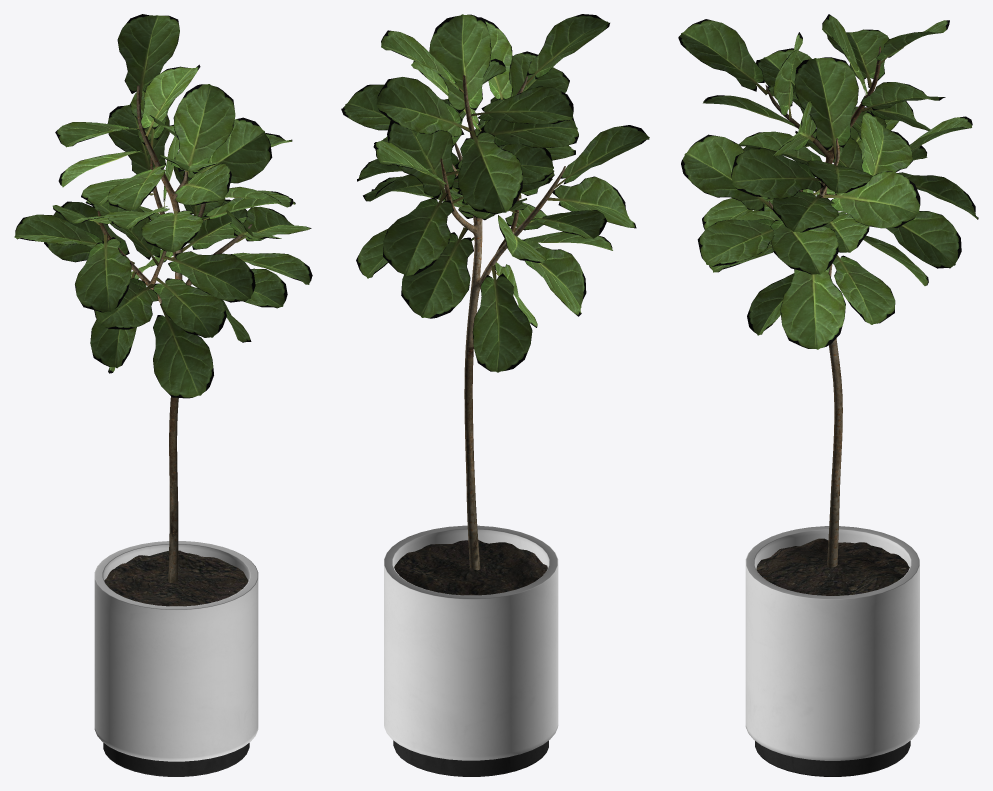
Rendered from maceta.fbx.
3 renders of one model, left to right at view 1: azimuth 30°, elevation 25°; view 2: azimuth 150°, elevation 25°; view 3: azimuth 270°, elevation 25°, orthographic. The views are drawn at different scales.
Visible parts, largest first — view 1: Object_3, Object_2, Object_4; view 2: Object_3, Object_2, Object_4; view 3: Object_3, Object_2, Object_4.
Part boxes in pixels (<box>): Object_3: <box>14,14,312,398</box>; Object_2: <box>94,541,258,776</box>; Object_4: <box>97,85,252,582</box>; Object_3: <box>341,14,649,372</box>; Object_2: <box>384,525,558,776</box>; Object_4: <box>440,75,565,570</box>; Object_3: <box>678,14,978,349</box>; Object_2: <box>745,526,919,776</box>; Object_4: <box>765,46,880,567</box>.
Size of the model in its own units: 71.06 by 181 by 67.4.
